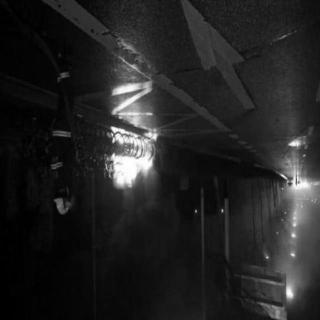Fire: (108, 156, 152, 194), (122, 132, 160, 144)
other: (291, 175, 311, 192)
